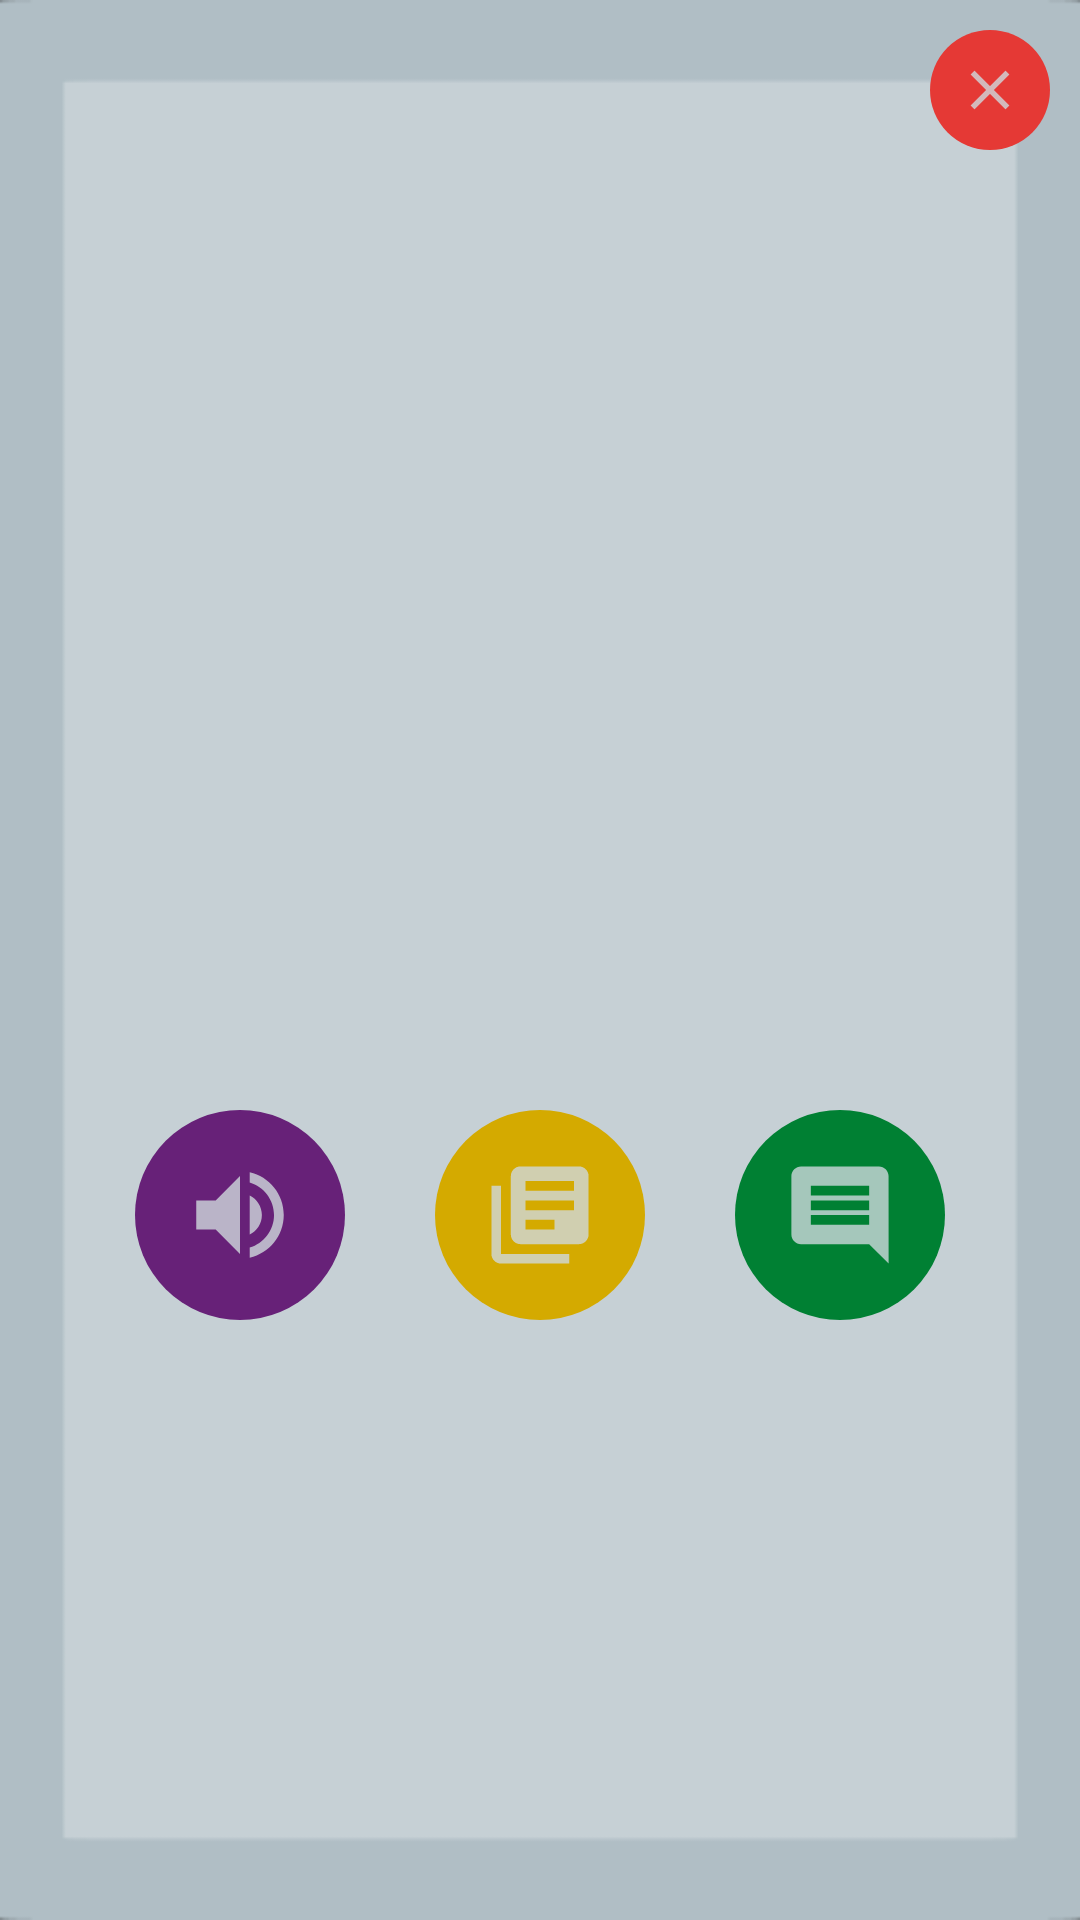

Named icons in this screenshot (1080×1920) and their centers, point (x, y):
close: point (990, 90)
Comment: point (840, 1215)
Dictionary: point (540, 1215)
speech: point (240, 1215)
